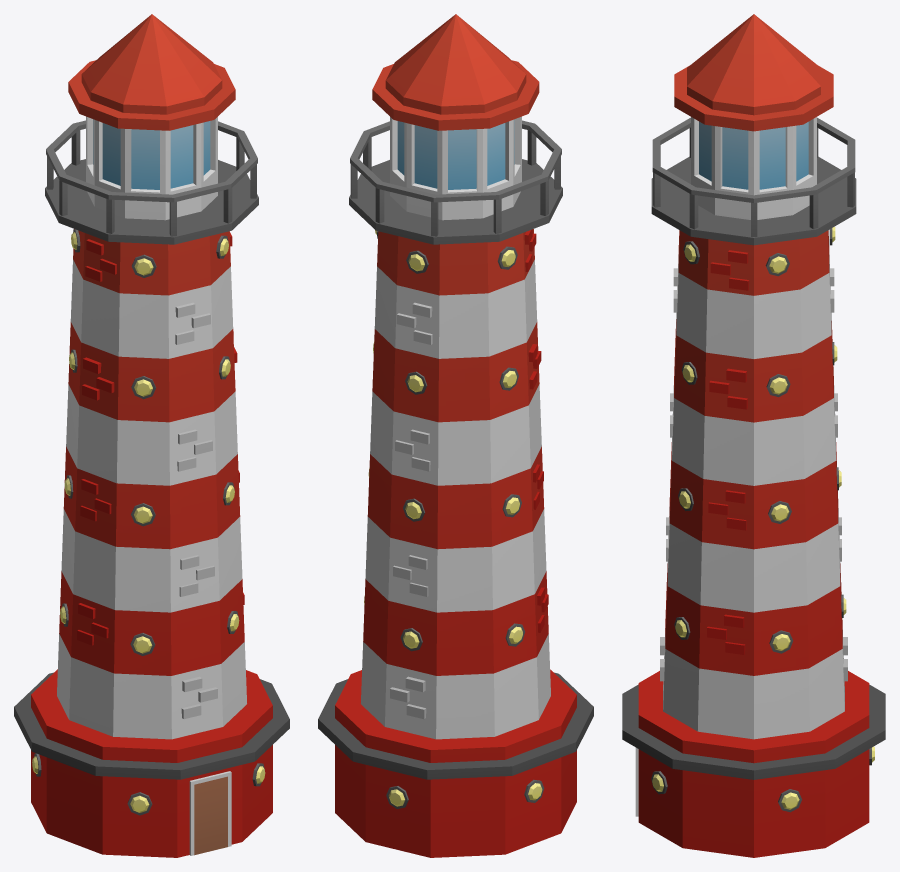
The model's file is lighthouse.glb.
3 renders of one model, left to right at view 1: azimuth 30°, elevation 25°; view 2: azimuth 150°, elevation 25°; view 3: azimuth 270°, elevation 25°, orthographic.
Parts seen in each view (by area): view 1: lighthouse; view 2: lighthouse; view 3: lighthouse.
Boxes of the visible parts, x1=… form: lighthouse: x1=14, y1=14, x2=289, y2=857; lighthouse: x1=318, y1=14, x2=593, y2=857; lighthouse: x1=622, y1=14, x2=885, y2=857.
Size of the model in its own units: 6.57 by 20.75 by 6.24.
Materials: 1 (1 with a texture image).
